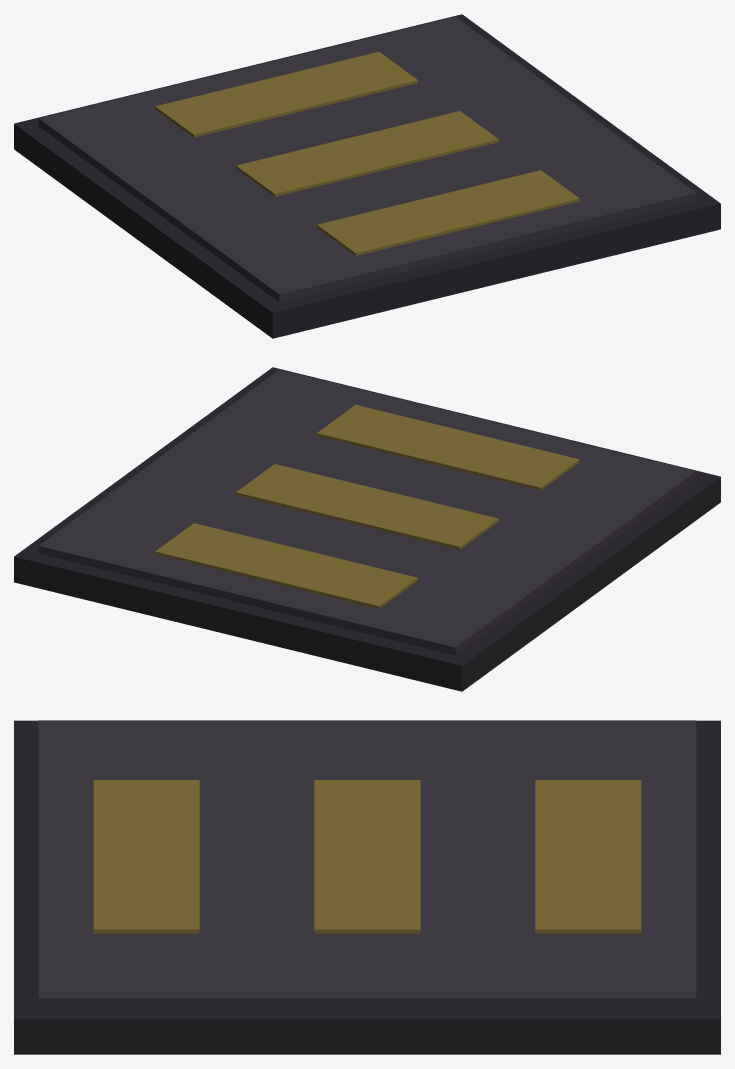
File: k_belt_n.glb
3 views of the same model, one above another, from view 1: azimuth 30°, elevation 25°; view 2: azimuth 150°, elevation 25°; view 3: azimuth 270°, elevation 25° (orthographic). The views are drawn at different scales.
Parts seen in each view (by area): view 1: piece; view 2: piece; view 3: piece.
Part boxes in pixels (x1,y1,x2,y2): piece: [14, 14, 720, 338]; piece: [14, 367, 720, 691]; piece: [14, 720, 720, 1054].
Bounding box in the file's own units: 1 × 0.0787 × 1.
